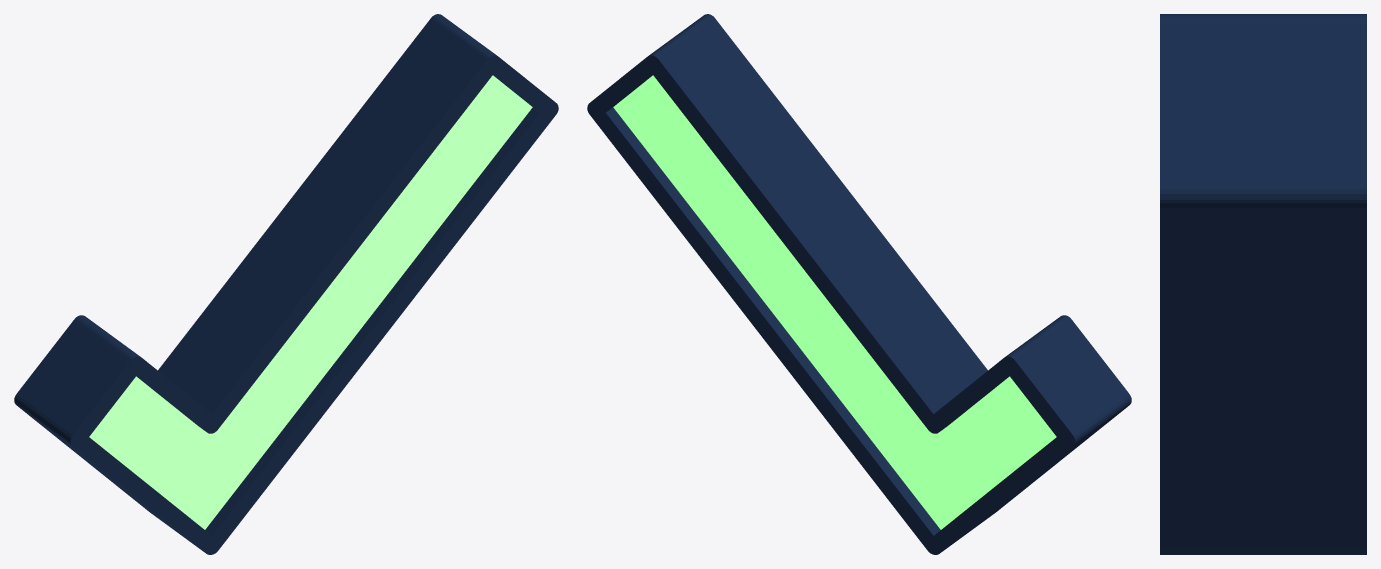
The model's file is l-3dicons-check.glb.
3 views of the same model, side by side, from view 1: azimuth 30°, elevation 25°; view 2: azimuth 150°, elevation 25°; view 3: azimuth 270°, elevation 25° (orthographic). The views are drawn at different scales.
Parts seen in each view (by area): view 1: Checkmarkx.003; view 2: Checkmarkx.003; view 3: Checkmarkx.003.
Part boxes in pixels (bbox=[...]): Checkmarkx.003: bbox=[14, 14, 558, 554]; Checkmarkx.003: bbox=[587, 14, 1131, 554]; Checkmarkx.003: bbox=[1160, 14, 1366, 554].
Size of the model in its own units: 0.4475 by 0.3774 by 0.0897.
